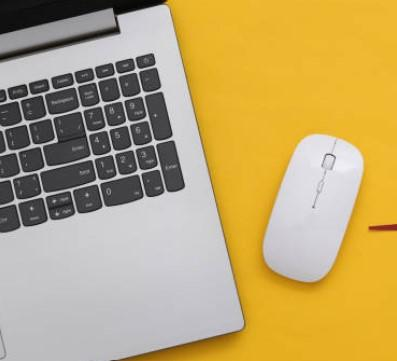computer mouse: (261, 134, 366, 285)
